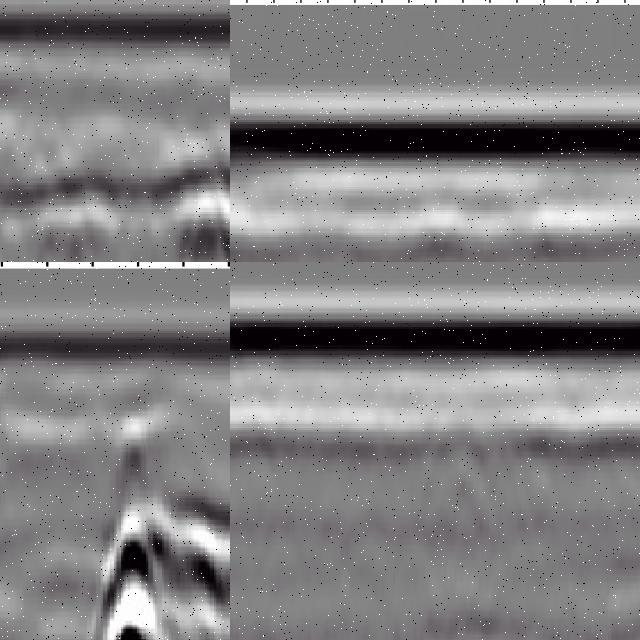loose: (1, 125, 231, 263), (79, 440, 231, 640)
